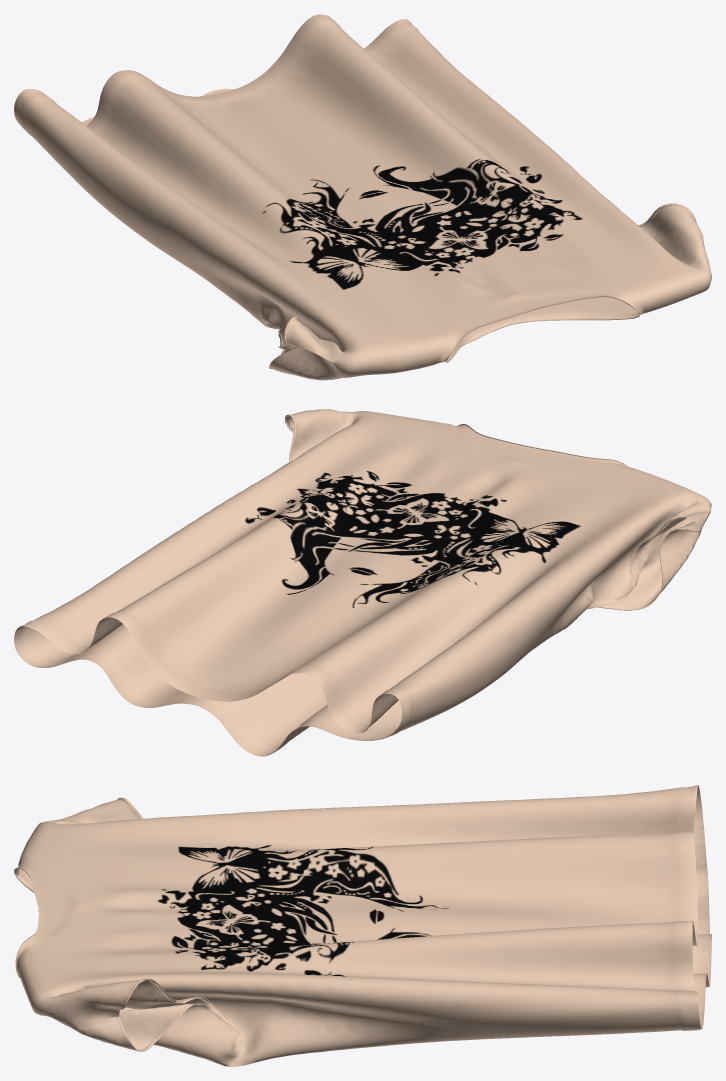
File: TNSC_Tshirt_clo09_2.obj
3 views of the same model, one above another, from view 1: azimuth 30°, elevation 25°; view 2: azimuth 150°, elevation 25°; view 3: azimuth 270°, elevation 25° (orthographic). The views are drawn at different scales.
Size of the model in its own units: 13.73 by 3.48 by 19.47.
1 material, 1 textured.
